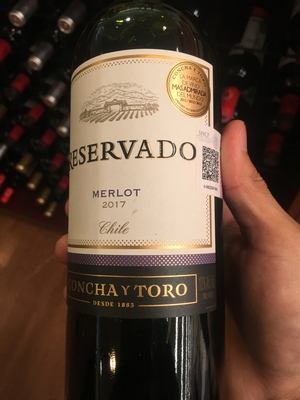reservado merlot: (54, 20, 251, 387)
